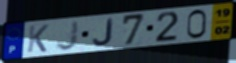0: (186, 8, 208, 40)
2: (154, 10, 181, 43)
7: (121, 13, 147, 48)
J: (54, 20, 81, 52), (92, 17, 115, 47)
K: (26, 23, 50, 54)
